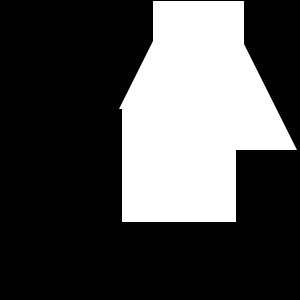circle: (122, 108, 236, 222), (153, 1, 244, 92)
triangle: (149, 2, 297, 150), (119, 40, 188, 109), (169, 108, 209, 148)
